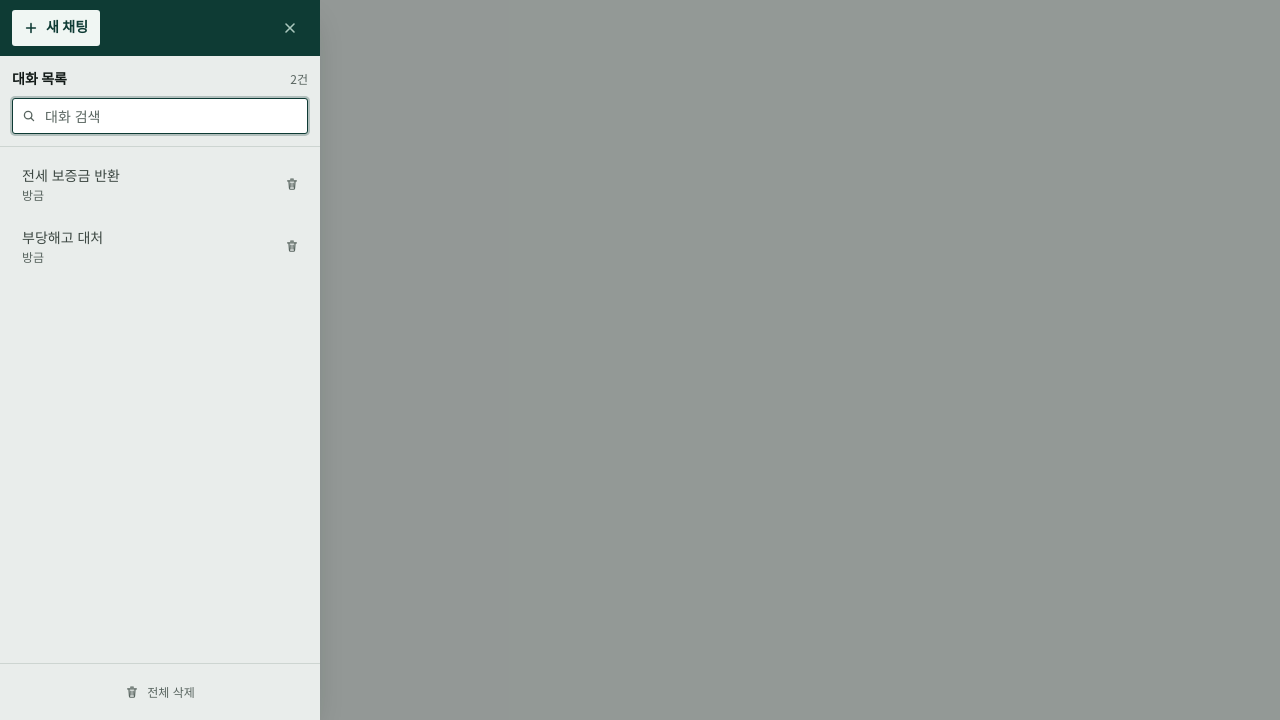
Test case: Sidebar › 검색어로 대화 목록을 좁힌다
This screenshot has width=1280, height=720.
In the search field labelled "대화 검색": x=160, y=116 left=12, top=98, right=308, bottom=134, type "해고"
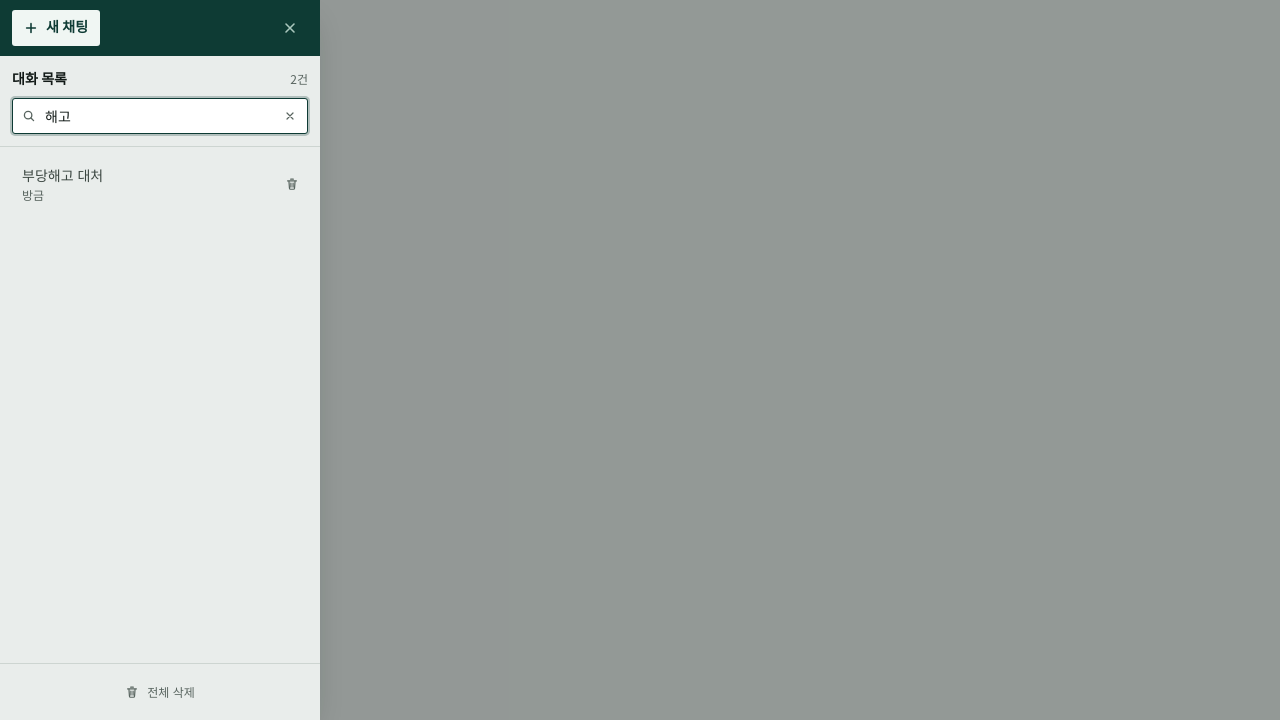
Expected: the text "부당해고 대처" is shown, left=22, top=165, right=103, bottom=185
Now the button "전세 보증금 반환" is gone
